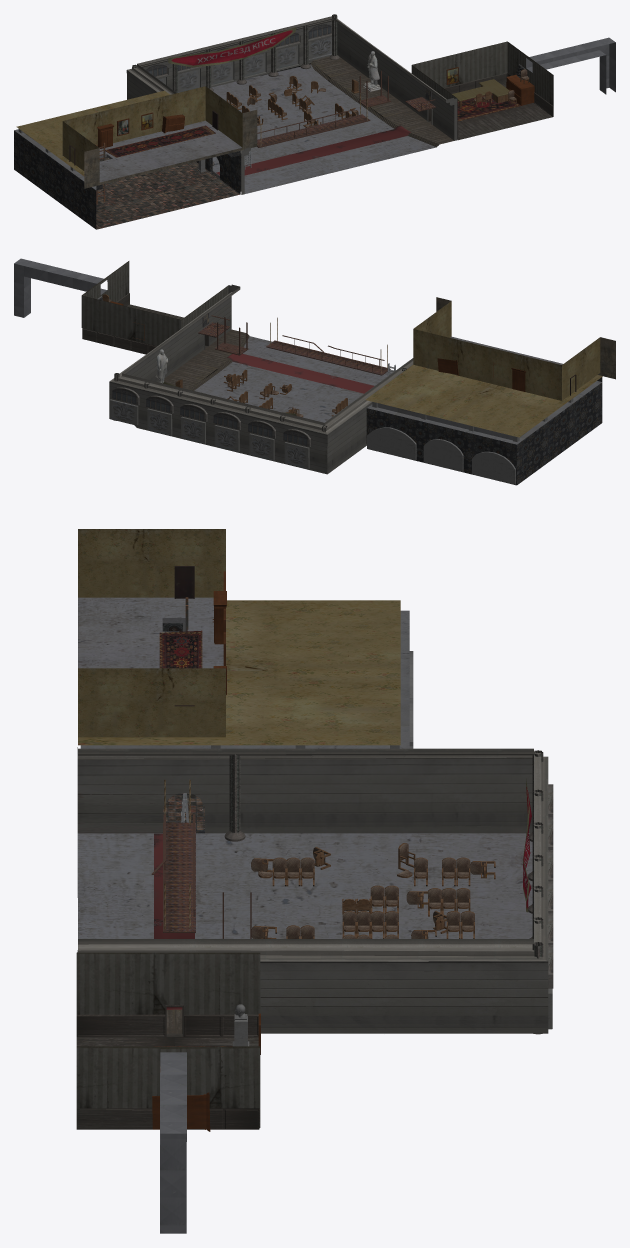
Rendered from ScenseConferencZall.FBX.
The picture shows the model from 3 angles, top to bottom: view 1: azimuth 30°, elevation 25°; view 2: azimuth 150°, elevation 25°; view 3: azimuth 270°, elevation 25°; orthographic projection. The views are drawn at different scales.
Visible parts, largest first — view 1: Object02, Object01, Box01, Cylinder125, Object03; view 2: Object02, Object01, Box01, Cylinder125, Object03; view 3: Object02, Box01, Object01, Cylinder125.
Part boxes in pixels (box(x1,y1,x2,y2)): Object02: box(126, 14, 457, 194); Object01: box(14, 37, 615, 229); Box01: box(16, 67, 534, 203); Cylinder125: box(226, 51, 529, 169); Object03: box(358, 70, 391, 107); Object02: box(109, 284, 413, 474); Object01: box(14, 258, 602, 485); Box01: box(111, 297, 615, 437); Cylinder125: box(102, 294, 395, 417); Object03: box(214, 317, 248, 355); Object02: box(77, 747, 553, 1034); Box01: box(78, 529, 400, 1131); Object01: box(76, 610, 413, 1233); Cylinder125: box(151, 779, 495, 938).
Bounding box in the file's own units: 1992 × 312 × 745.
